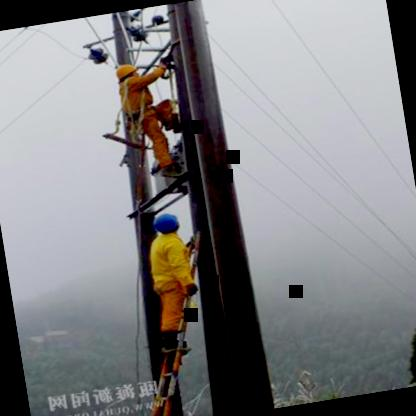helmet: (151, 210, 182, 240), (112, 60, 141, 88)
